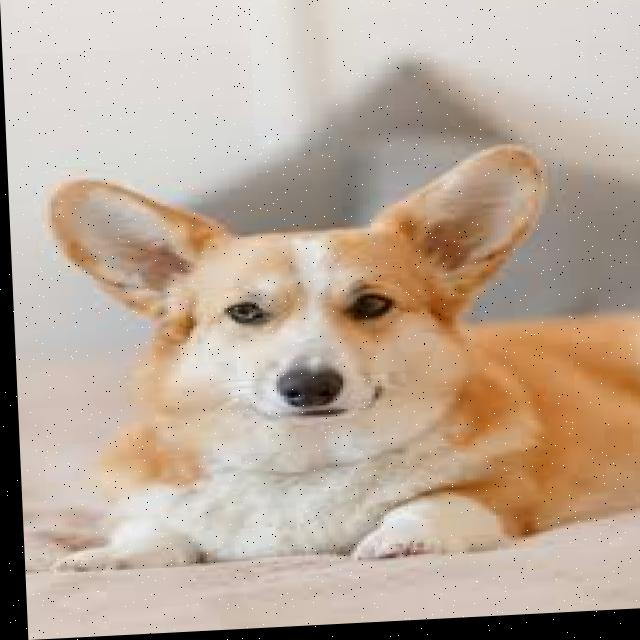CORGI: (6, 135, 640, 595)
